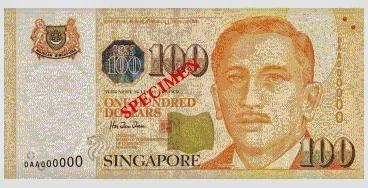100SingaporeDollar: (4, 8, 364, 178)
